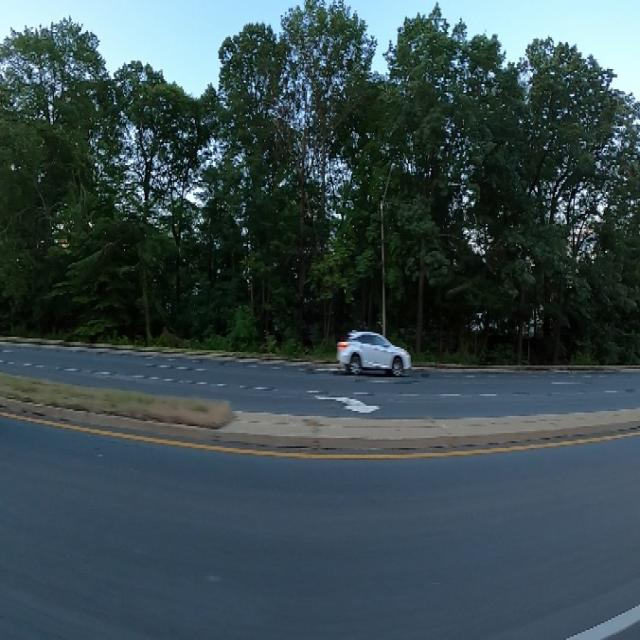cars: (335, 316, 415, 388)
